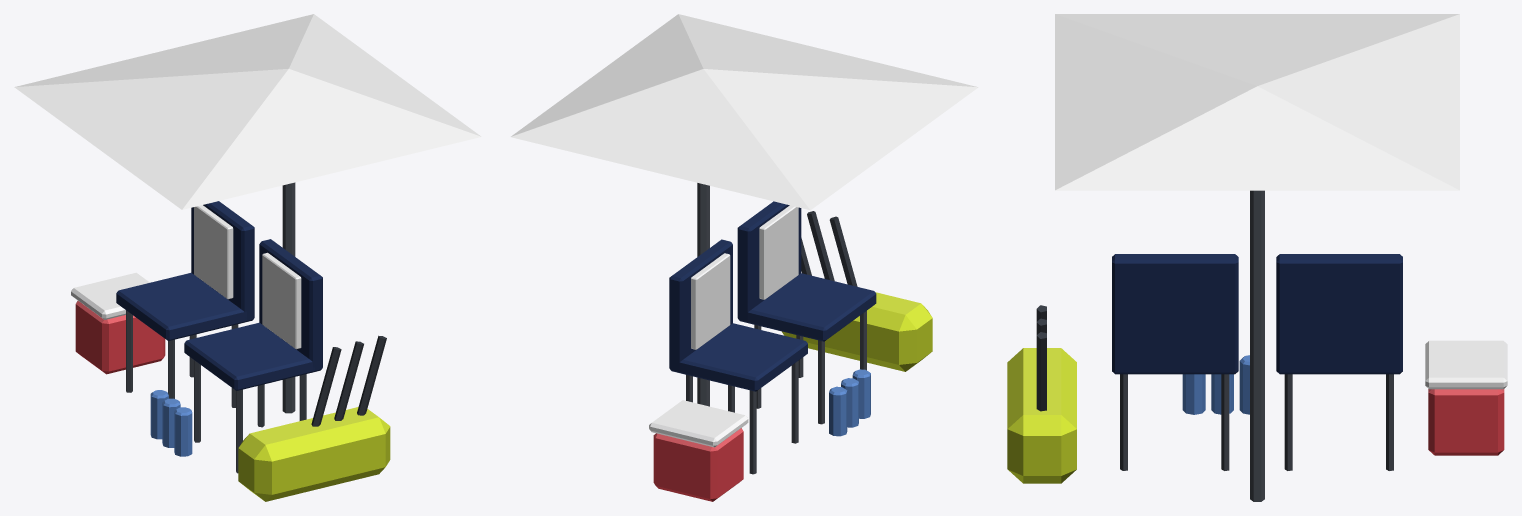
Rendered from PlayerBench.glb.
3 renders of one model, left to right at view 1: azimuth 30°, elevation 25°; view 2: azimuth 150°, elevation 25°; view 3: azimuth 270°, elevation 25°, orthographic. The views are drawn at different scales.
Visible parts, largest first — view 1: PlayerBench; view 2: PlayerBench; view 3: PlayerBench.
Boxes of the visible parts, x1,y1,x2,y2 form: PlayerBench: [14, 14, 481, 501]; PlayerBench: [511, 14, 978, 501]; PlayerBench: [1007, 14, 1507, 501].
Bounding box in the file's own units: 6.6 × 7.2 × 7.9.
Materials: 1 (1 with a texture image).
